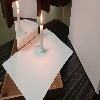fire: (40, 13, 44, 26)
